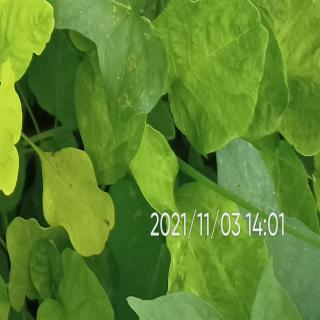kekurangan_mangan: (38, 142, 119, 258), (0, 0, 33, 4)
